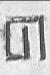O4: (5, 1, 46, 74)
